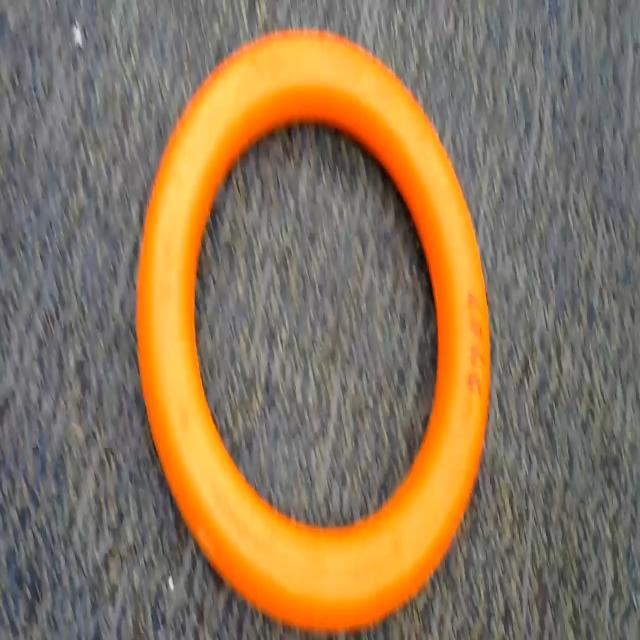note: (131, 10, 521, 640)
